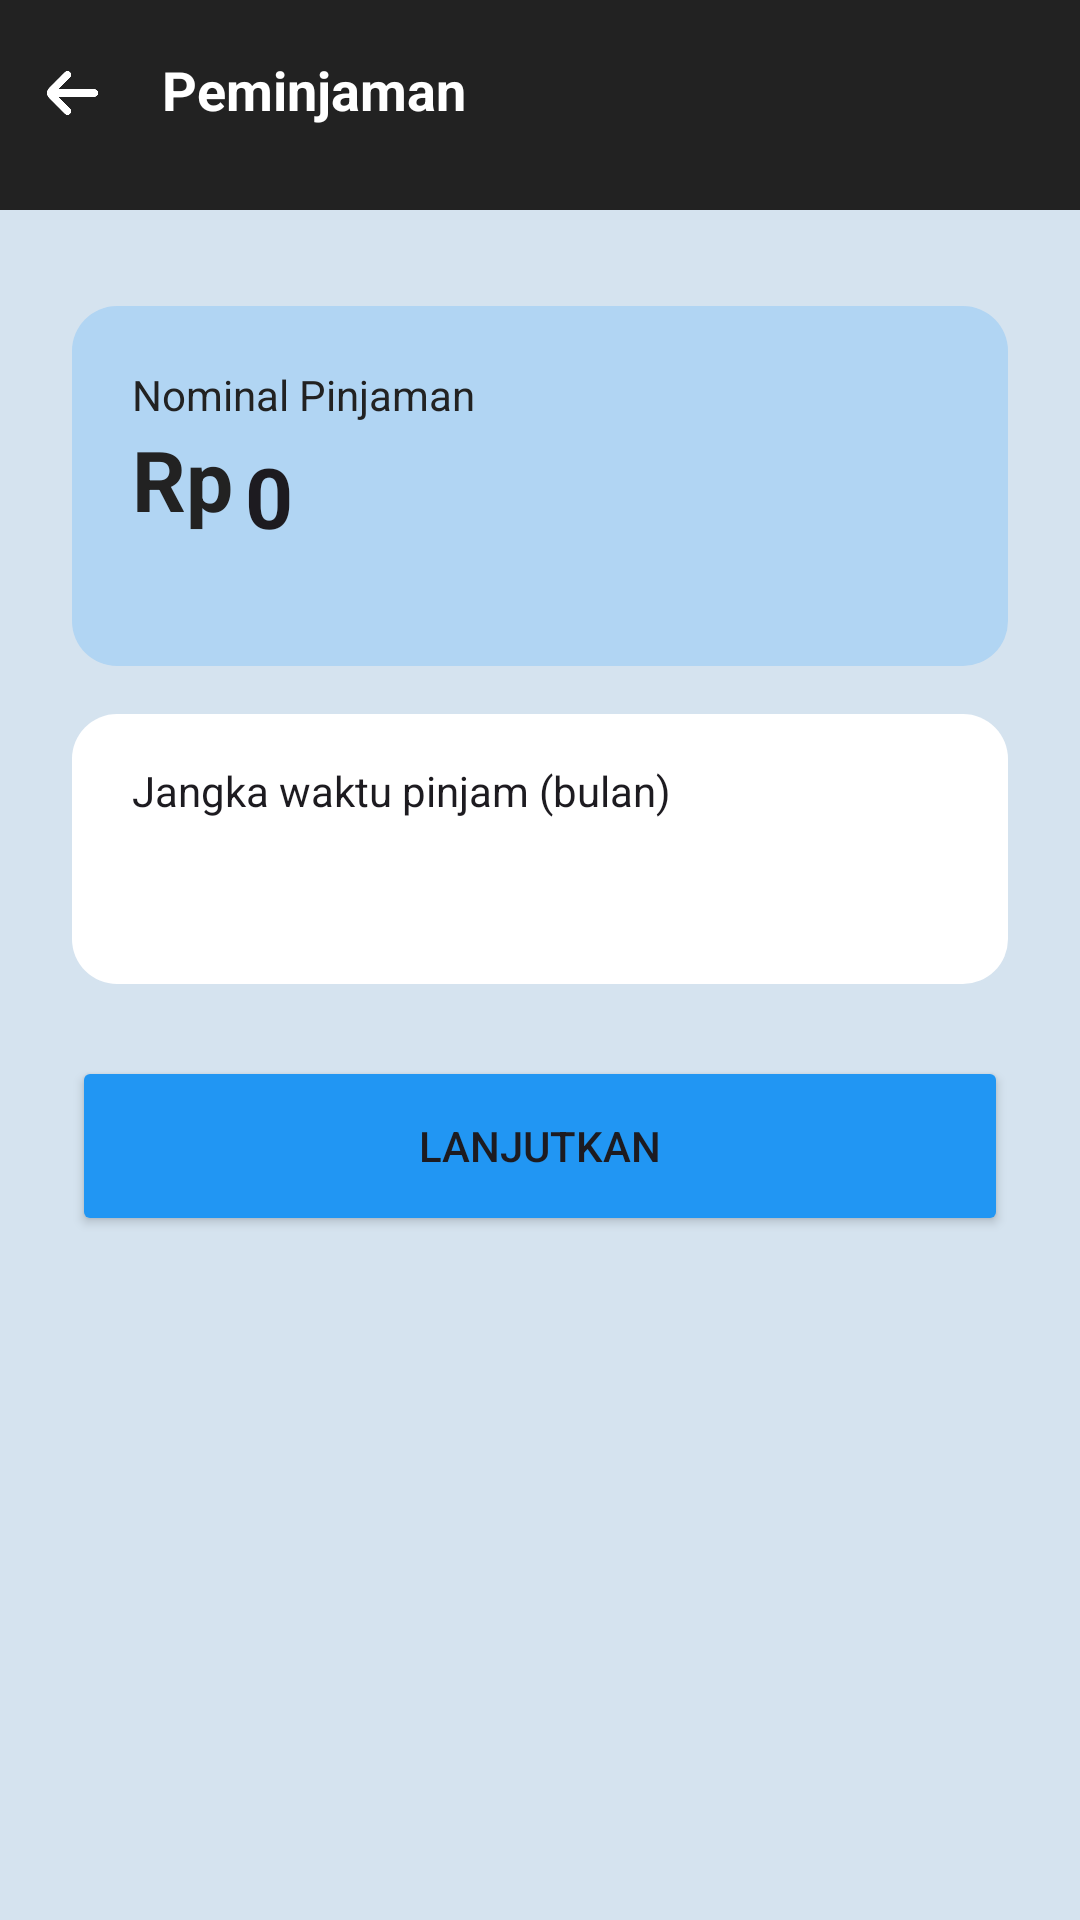

Icon bounding boxes for this 1080x1920 phone screenshot, format (x1, y1, x2, y2):
arrow: (47, 71, 98, 115)
